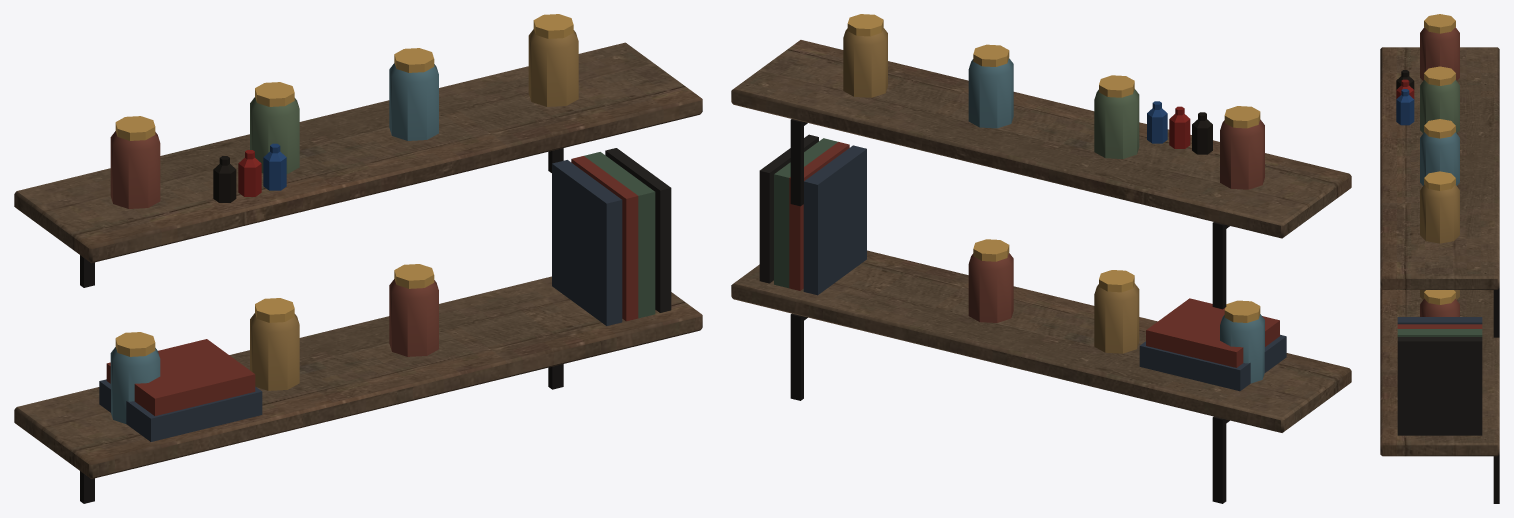
File: ink-shelves.glb
The picture shows the model from 3 angles, left to right: view 1: azimuth 30°, elevation 25°; view 2: azimuth 150°, elevation 25°; view 3: azimuth 270°, elevation 25°; orthographic projection. The views are drawn at different scales.
Parts seen in each view (by area): view 1: shelves; view 2: shelves; view 3: shelves.
Boxes of the visible parts, x1,y1,x2,y2 form: shelves: [14, 14, 702, 503]; shelves: [731, 14, 1351, 503]; shelves: [1380, 14, 1499, 503].
Size of the model in its own units: 1.1 by 0.687 by 0.24.
14 materials, 1 textured.
